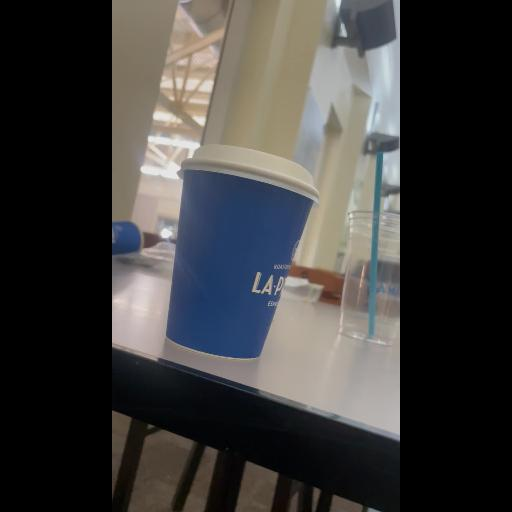lp_paper_cup: (163, 146, 319, 360)
lp_plastic_cup: (338, 213, 400, 347)
